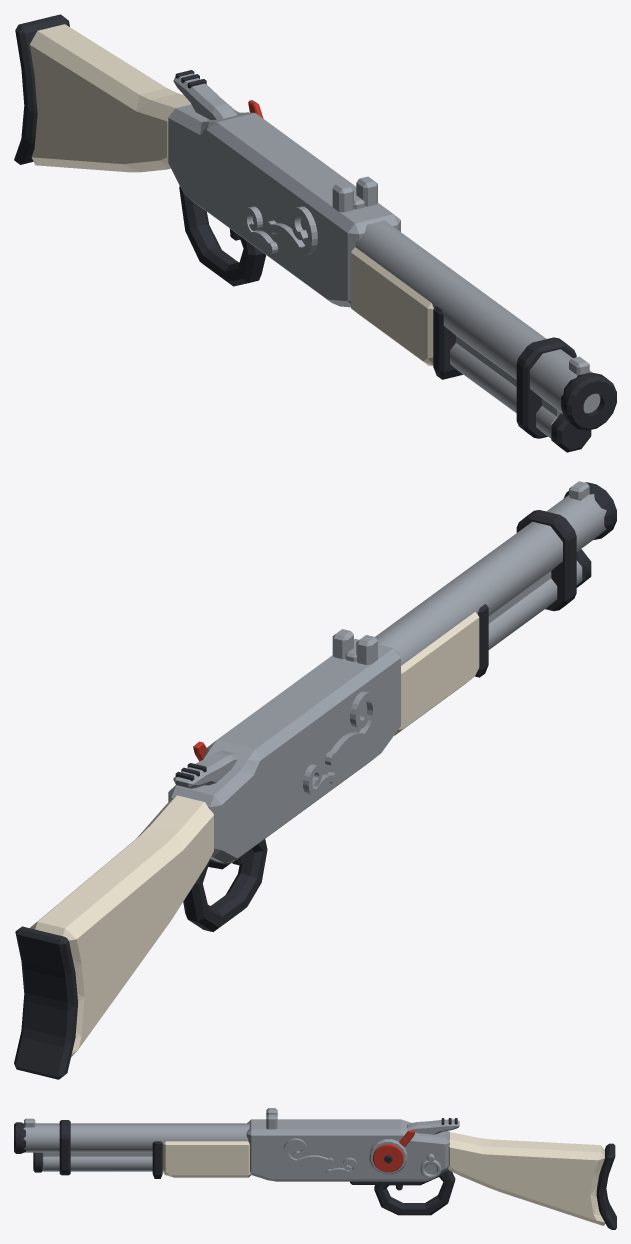
The model's file is w_lever@lever_capgun.glb.
3 renders of one model, top to bottom at view 1: azimuth 30°, elevation 25°; view 2: azimuth 150°, elevation 25°; view 3: azimuth 270°, elevation 25°, orthographic. The views are drawn at different scales.
Visible parts, largest first — view 1: body_wzA__silver__p9aa0a8, stock_wzA__pearl__pe6decb, barrel_wzB__silver__p9aa0a8, barrel_wzB__dark__p2b2e35, fore_wzA__pearl__pe6decb, lever_wzN__dark__p2b2e35, stock_wzB__dark__p2b2e35, scroll_wzN__silver__p9aa0a8, sight_wzN__silver__p9aa0a8, lhammer_wzN__silver__p9aa0a8, fore_wzN__dark__p2b2e35; view 2: body_wzA__silver__p9aa0a8, stock_wzA__pearl__pe6decb, barrel_wzB__silver__p9aa0a8, stock_wzB__dark__p2b2e35, fore_wzA__pearl__pe6decb, lever_wzN__dark__p2b2e35, barrel_wzB__dark__p2b2e35, scroll_wzN__silver__p9aa0a8, sight_wzN__silver__p9aa0a8, lhammer_wzN__silver__p9aa0a8; view 3: body_wzA__silver__p9aa0a8, stock_wzA__pearl__pe6decb, barrel_wzB__silver__p9aa0a8, fore_wzA__pearl__pe6decb, lever_wzN__dark__p2b2e35, barrel_wzB__dark__p2b2e35, stock_wzB__dark__p2b2e35, scroll_wzN__silver__p9aa0a8, caps_wzN__red__pc0392b, lhammer_wzN__silver__p9aa0a8, caps_wzN__silver__p9aa0a8, fore_wzN__dark__p2b2e35 (+2 smaller).
Part boxes in pixels (x1,y1,x2,y2): body_wzA__silver__p9aa0a8: (168,104,400,307); stock_wzA__pearl__pe6decb: (29,24,190,172); barrel_wzB__silver__p9aa0a8: (355,220,600,438); barrel_wzB__dark__p2b2e35: (516,337,616,452); fore_wzA__pearl__pe6decb: (351,247,433,365); lever_wzN__dark__p2b2e35: (179,186,265,286); stock_wzB__dark__p2b2e35: (14,14,69,164); scroll_wzN__silver__p9aa0a8: (243,206,317,255); sight_wzN__silver__p9aa0a8: (332,176,589,375); lhammer_wzN__silver__p9aa0a8: (173,73,237,119); fore_wzN__dark__p2b2e35: (433,306,462,379); body_wzA__silver__p9aa0a8: (168,638,400,863); stock_wzA__pearl__pe6decb: (30,795,213,1056); barrel_wzB__silver__p9aa0a8: (375,494,606,665); stock_wzB__dark__p2b2e35: (14,926,78,1079); fore_wzA__pearl__pe6decb: (394,612,479,735); lever_wzN__dark__p2b2e35: (183,839,267,931); barrel_wzB__dark__p2b2e35: (516,482,616,611); scroll_wzN__silver__p9aa0a8: (303,691,377,795); sight_wzN__silver__p9aa0a8: (332,481,589,664); lhammer_wzN__silver__p9aa0a8: (173,750,237,788); body_wzA__silver__p9aa0a8: (246,1119,449,1181); stock_wzA__pearl__pe6decb: (448,1132,605,1225); barrel_wzB__silver__p9aa0a8: (23,1123,249,1171); fore_wzA__pearl__pe6decb: (162,1141,251,1177); lever_wzN__dark__p2b2e35: (350,1169,455,1215); barrel_wzB__dark__p2b2e35: (14,1120,70,1175); stock_wzB__dark__p2b2e35: (596,1143,616,1229); scroll_wzN__silver__p9aa0a8: (283,1138,357,1175); caps_wzN__red__pc0392b: (373,1130,415,1172); lhammer_wzN__silver__p9aa0a8: (407,1119,459,1134); caps_wzN__silver__p9aa0a8: (369,1139,407,1174); fore_wzN__dark__p2b2e35: (152,1141,162,1178).
Bounding box in the file's own units: 0.0929 × 0.244 × 1.19.
